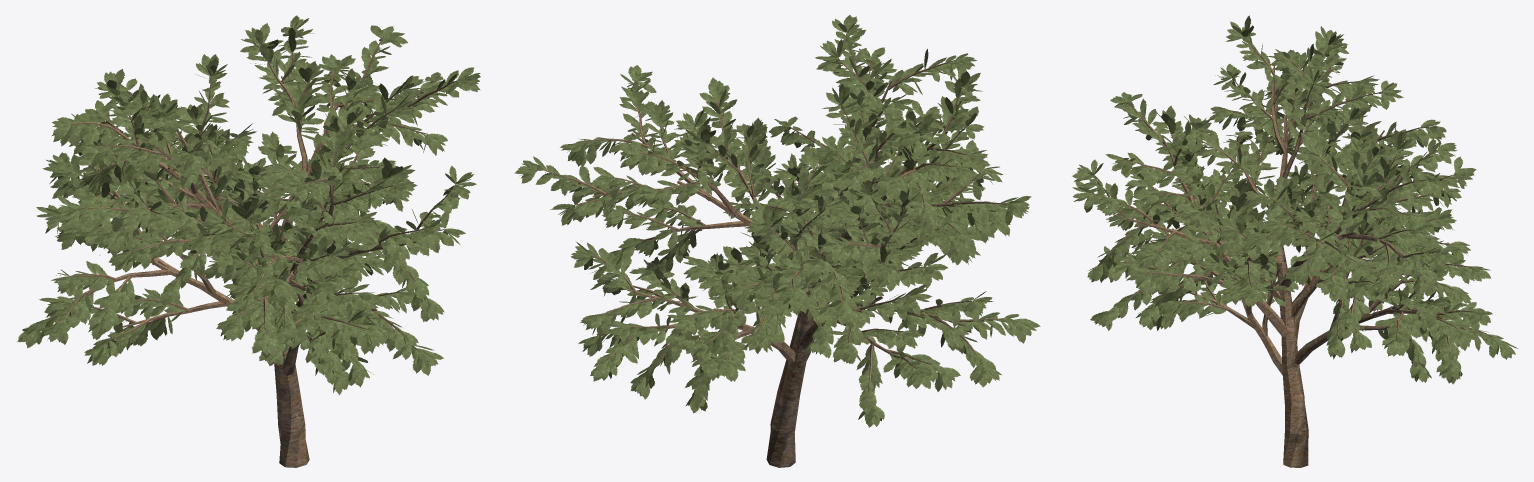
Rendered from castagno_a.gltf.
3 views of the same model, side by side, from view 1: azimuth 30°, elevation 25°; view 2: azimuth 150°, elevation 25°; view 3: azimuth 270°, elevation 25° (orthographic). The views are drawn at different scales.
Parts seen in each view (by area): view 1: castagno_a_foglie, castagno_a_rami; view 2: castagno_a_foglie, castagno_a_rami; view 3: castagno_a_foglie, castagno_a_rami.
Part boxes in pixels (left/top/right/bottom): castagno_a_foglie: left=17, top=15, right=480, bottom=395; castagno_a_rami: left=47, top=35, right=461, bottom=467; castagno_a_foglie: left=514, top=15, right=1040, bottom=427; castagno_a_rami: left=537, top=33, right=1016, bottom=467; castagno_a_foglie: left=1072, top=15, right=1518, bottom=384; castagno_a_rami: left=1091, top=41, right=1494, bottom=467.
Bounding box in the file's own units: 7.19 × 6.49 × 6.99.
Materials: 2 (2 with a texture image).
